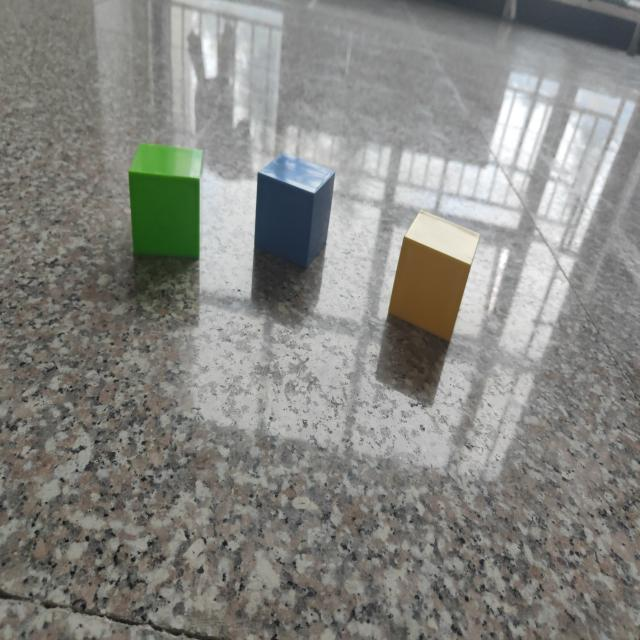blue: (255, 151, 341, 274)
green: (129, 145, 206, 265)
yellow: (387, 215, 478, 347)
